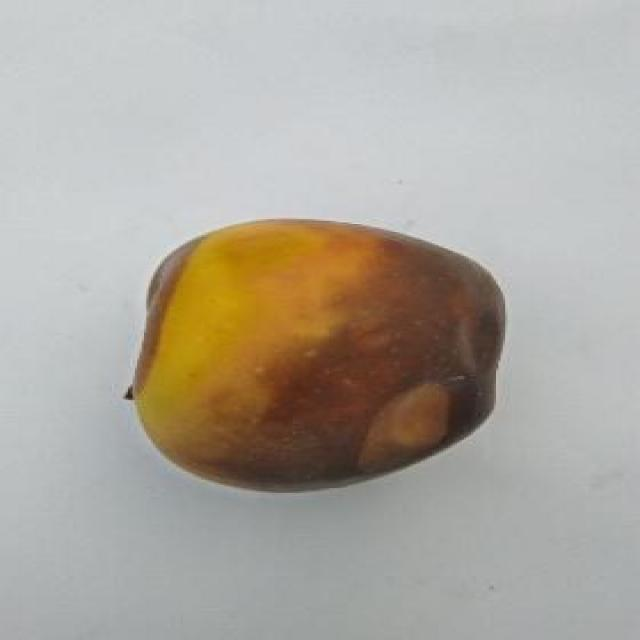Rotten: (142, 224, 513, 494)
